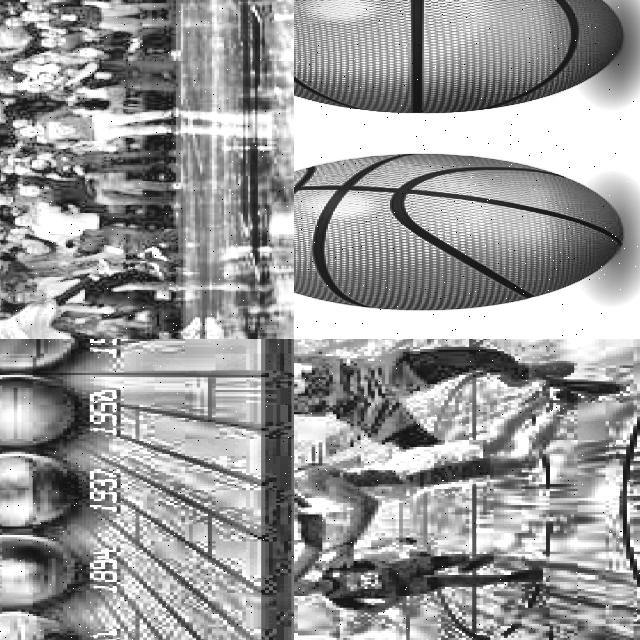Basketball: (294, 153, 622, 310), (294, 0, 622, 112)
